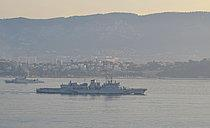MIL_Ship: (34, 76, 149, 94), (6, 74, 45, 84)
